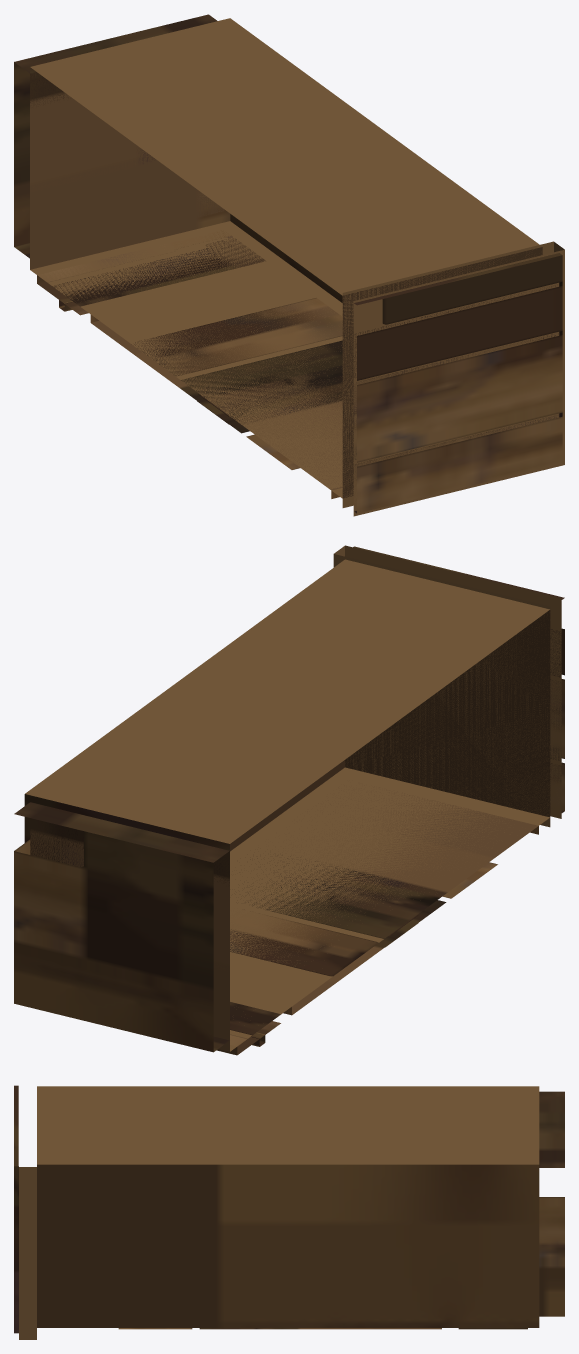
File: section-3.obj
3 views of the same model, one above another, from view 1: azimuth 30°, elevation 25°; view 2: azimuth 150°, elevation 25°; view 3: azimuth 270°, elevation 25° (orthographic). The views are drawn at different scales.
Bounding box in the file's own units: 0.765 × 0.7685 × 2.15.
